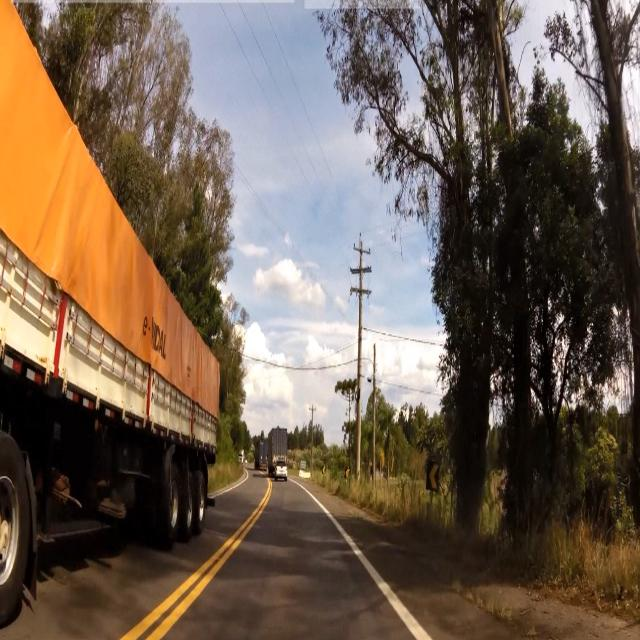Del: (428, 456, 440, 496)
